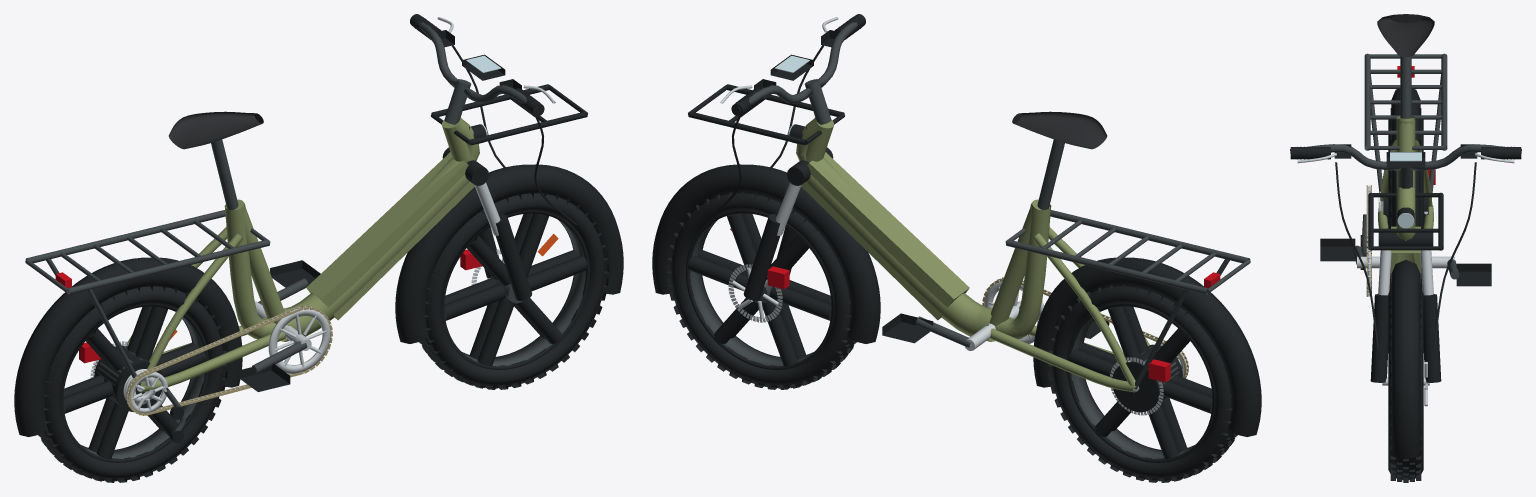
The model's file is engwe-l20.glb.
3 renders of one model, left to right at view 1: azimuth 30°, elevation 25°; view 2: azimuth 150°, elevation 25°; view 3: azimuth 270°, elevation 25°, orthographic. The views are drawn at different scales.
Visible parts, largest first — view 1: Bodywork | black, FrontWheel | rubber, FrontWheel | black, BatteryMount | olive, RearWheel | rubber, Chassis | olive, RearWheel | black, Bodywork | graphite, Drive | steel, Bodywork | seat, Fork | black, Drive | black (+9 smaller); view 2: Bodywork | black, BatteryMount | olive, FrontWheel | rubber, RearWheel | rubber, Chassis | olive, FrontWheel | black, RearWheel | black, Bodywork | graphite, Bodywork | seat, Fork | black, Cockpit | graphite, FrontWheel | graphite (+8 smaller); view 3: Bodywork | black, Bodywork | graphite, Fork | black, Chassis | olive, FrontWheel | rubber, Cockpit | rubber, Bodywork | seat, Drive | black, Cockpit | graphite, Fork | steel, Cockpit | black, Drive | steel (+7 smaller).
Part boxes in pixels (x1=…): Bodywork | black: x1=14, y1=84, x2=623, y2=436; FrontWheel | rubber: x1=419, y1=191, x2=609, y2=389; FrontWheel | black: x1=442, y1=211, x2=589, y2=369; BatteryMount | olive: x1=281, y1=152, x2=474, y2=341; RearWheel | rubber: x1=38, y1=284, x2=228, y2=482; Chassis | olive: x1=126, y1=117, x2=479, y2=392; RearWheel | black: x1=61, y1=304, x2=208, y2=462; Bodywork | graphite: x1=25, y1=210, x2=270, y2=385; Drive | steel: x1=123, y1=301, x2=330, y2=413; Bodywork | seat: x1=168, y1=111, x2=263, y2=149; Fork | black: x1=442, y1=147, x2=532, y2=300; Drive | black: x1=170, y1=260, x2=320, y2=443; Bodywork | black: x1=652, y1=84, x2=1261, y2=436; BatteryMount | olive: x1=801, y1=152, x2=994, y2=341; FrontWheel | rubber: x1=666, y1=191, x2=856, y2=389; RearWheel | rubber: x1=1047, y1=284, x2=1237, y2=482; Chassis | olive: x1=796, y1=117, x2=1149, y2=392; FrontWheel | black: x1=686, y1=211, x2=833, y2=369; RearWheel | black: x1=1067, y1=304, x2=1214, y2=462; Bodywork | graphite: x1=1005, y1=210, x2=1250, y2=389; Bodywork | seat: x1=1012, y1=111, x2=1107, y2=149; Fork | black: x1=743, y1=147, x2=833, y2=300; Cockpit | graphite: x1=737, y1=22, x2=857, y2=124; FrontWheel | graphite: x1=689, y1=220, x2=813, y2=366; Bodywork | black: x1=1368, y1=89, x2=1443, y2=459; Bodywork | graphite: x1=1364, y1=53, x2=1447, y2=198; Fork | black: x1=1370, y1=232, x2=1441, y2=382; Chassis | olive: x1=1378, y1=116, x2=1433, y2=240; FrontWheel | rubber: x1=1388, y1=282, x2=1423, y2=482; Cockpit | rubber: x1=1290, y1=147, x2=1521, y2=350; Bodywork | seat: x1=1377, y1=14, x2=1434, y2=57; Drive | black: x1=1320, y1=235, x2=1491, y2=286; Cockpit | graphite: x1=1290, y1=144, x2=1521, y2=188; Fork | steel: x1=1378, y1=250, x2=1433, y2=295; Cockpit | black: x1=1297, y1=144, x2=1514, y2=167; Drive | steel: x1=1357, y1=185, x2=1454, y2=296.
Size of the model in its own units: 1.88 by 0.9968 by 0.6634.
